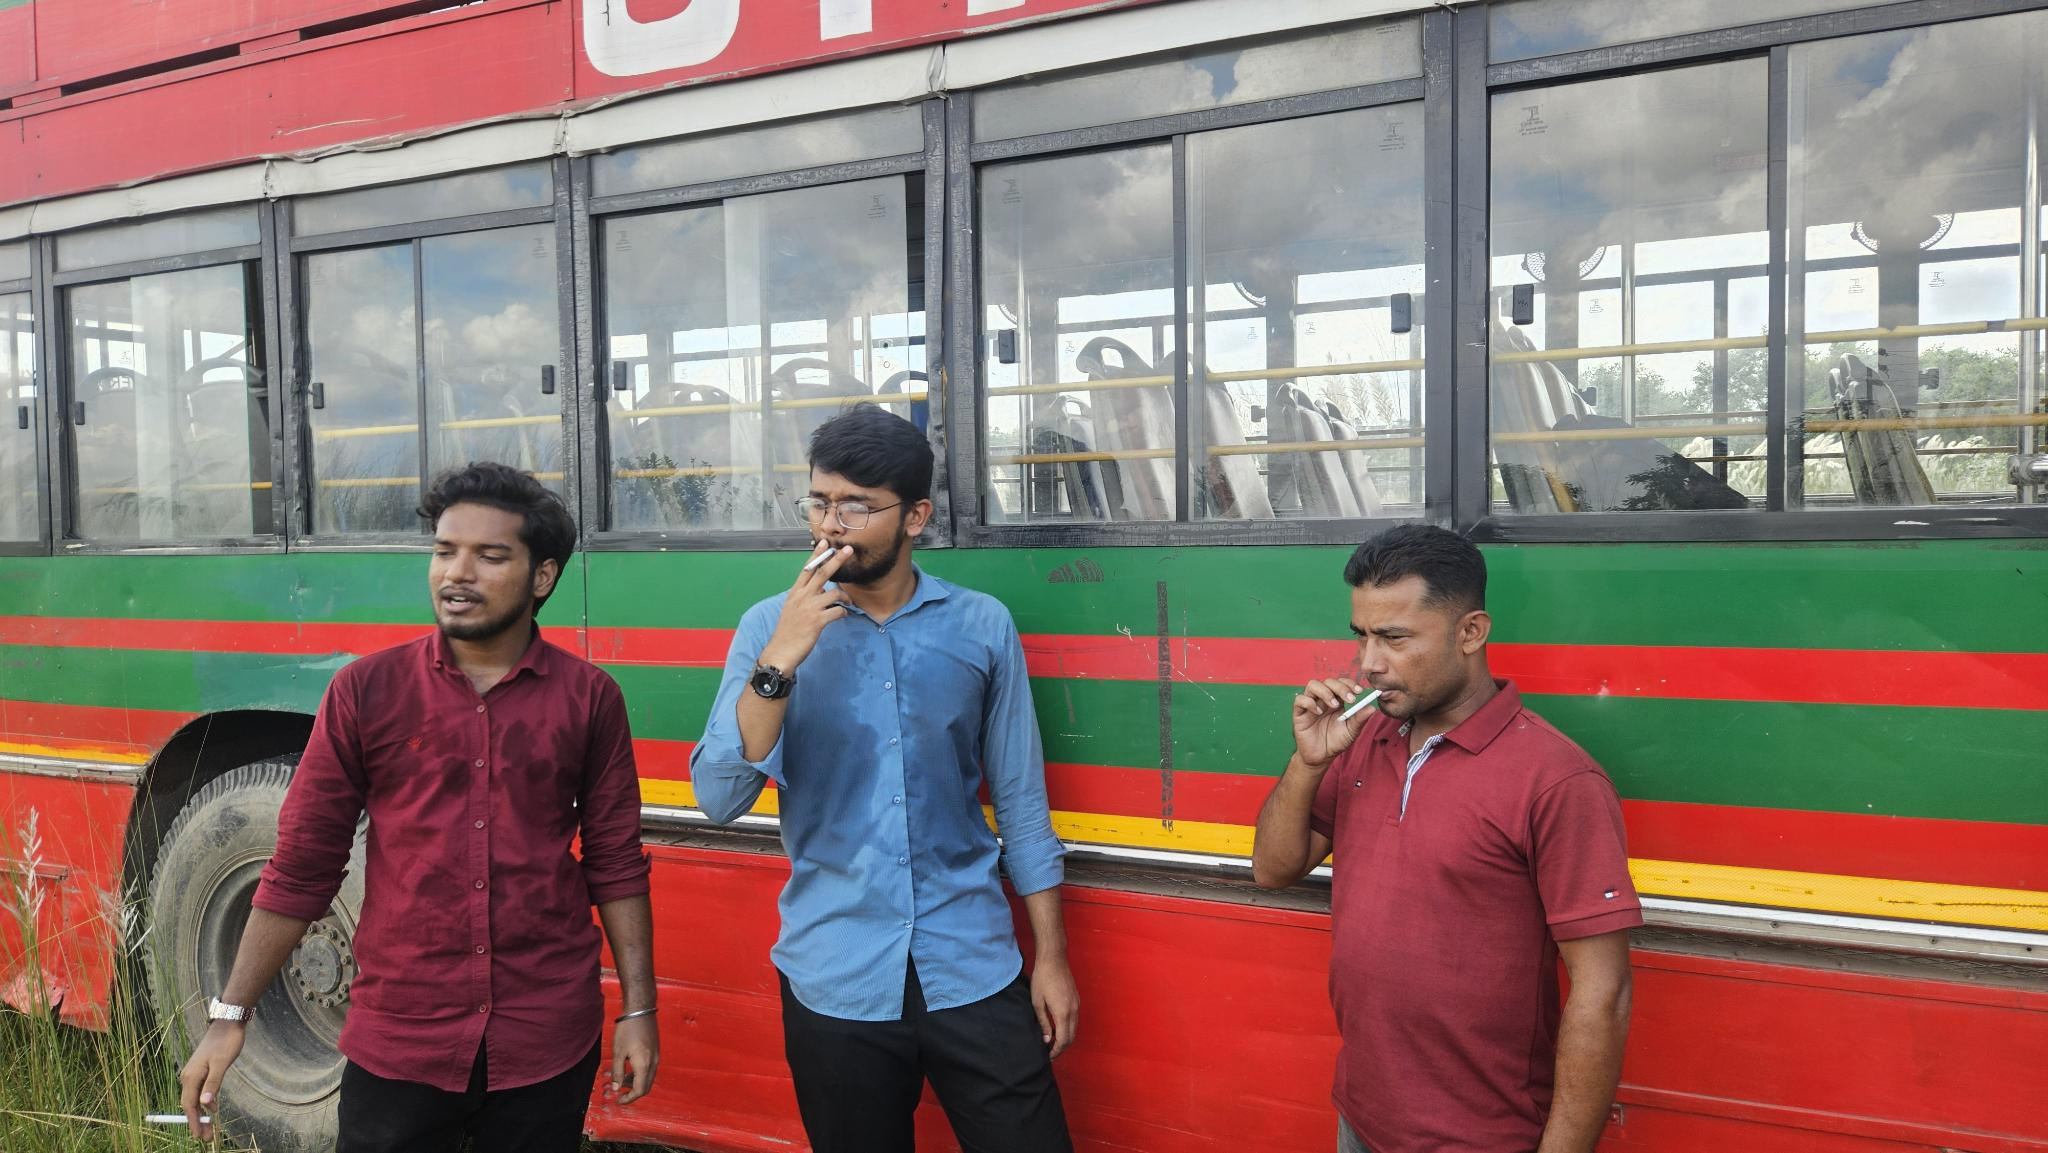cigarette: (1335, 688, 1385, 727), (143, 1112, 214, 1128), (802, 546, 838, 575)
smoker: (177, 461, 661, 1153), (688, 402, 1080, 1153), (1253, 526, 1643, 1153)
